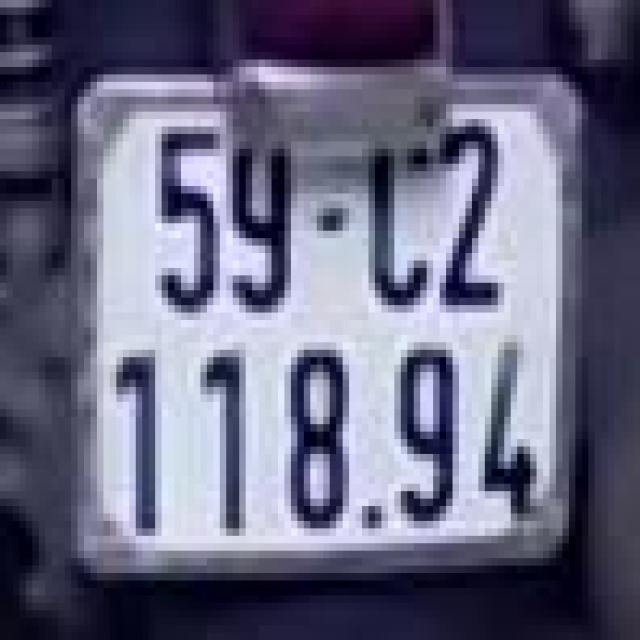1: (97, 346, 175, 540), (184, 338, 256, 540)
2: (433, 116, 530, 332)
4: (462, 327, 546, 536)
5: (136, 108, 226, 316)
8: (282, 339, 352, 532)
9: (226, 104, 304, 328), (391, 323, 462, 540)
C: (346, 112, 449, 305)
